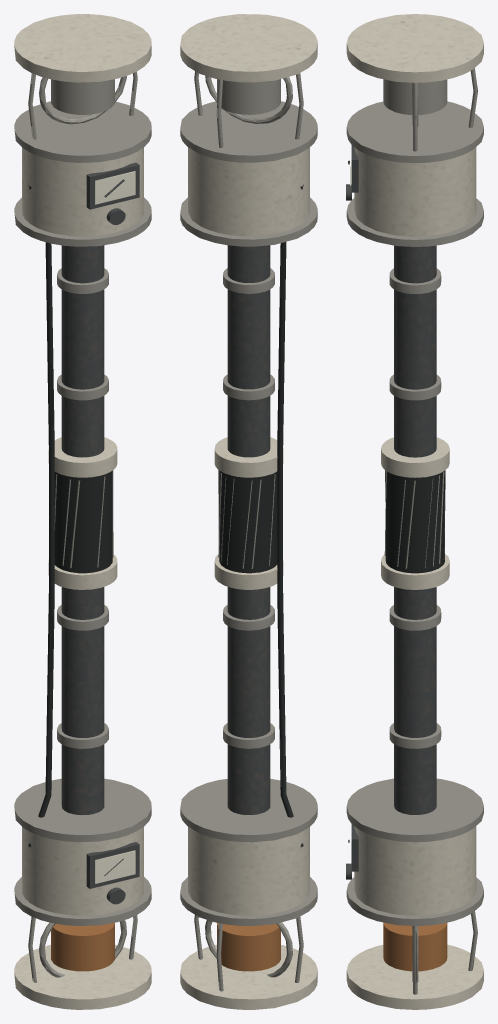
File: 03-sensor-rod.fbx
3 views of the same model, side by side, from view 1: azimuth 30°, elevation 25°; view 2: azimuth 150°, elevation 25°; view 3: azimuth 270°, elevation 25° (orthographic).
Visible parts, largest first — view 1: main shaft, end cap.001, instrument body.001, instrument body, body rim.003, end cap, body rim.001, hand grip, external cable, sensor core, sensor core.001, body rim.002 (+13 smaller); view 2: main shaft, instrument body.001, instrument body, end cap.001, body rim.003, body rim.001, end cap, hand grip, external cable, sensor core, sensor core.001, body rim.002 (+11 smaller); view 3: main shaft, instrument body.001, instrument body, end cap.001, body rim.003, end cap, body rim.001, hand grip, sensor core, body rim, body rim.002, sensor core.001 (+10 smaller).
Part boxes in pixels (<box>): main shaft: <box>61,245,104,815</box>; end cap.001: <box>14,14,151,82</box>; instrument body.001: <box>22,147,143,236</box>; instrument body: <box>22,827,143,915</box>; body rim.003: <box>14,101,151,162</box>; end cap: <box>14,945,151,1009</box>; body rim.001: <box>14,778,151,842</box>; hand grip: <box>54,470,112,573</box>; external cable: <box>28,185,54,847</box>; sensor core: <box>51,922,114,971</box>; sensor core.001: <box>51,79,114,114</box>; body rim.002: <box>14,197,151,246</box>; main shaft: <box>227,245,270,814</box>; instrument body.001: <box>188,147,309,236</box>; instrument body: <box>188,826,309,915</box>; end cap.001: <box>180,14,317,82</box>; body rim.003: <box>180,101,317,162</box>; body rim.001: <box>180,778,317,842</box>; end cap: <box>180,944,317,1009</box>; hand grip: <box>219,470,277,573</box>; external cable: <box>277,184,303,847</box>; sensor core: <box>217,922,280,971</box>; sensor core.001: <box>217,79,280,114</box>; body rim.002: <box>180,197,317,246</box>; main shaft: <box>394,245,436,814</box>; instrument body.001: <box>354,147,476,236</box>; instrument body: <box>354,826,476,915</box>; end cap.001: <box>346,14,483,82</box>; body rim.003: <box>346,101,483,163</box>; end cap: <box>346,944,483,1009</box>; body rim.001: <box>346,778,483,842</box>; hand grip: <box>385,471,444,573</box>; sensor core: <box>383,922,447,971</box>; body rim: <box>346,877,483,925</box>; body rim.002: <box>346,198,483,246</box>; sensor core.001: <box>383,79,447,114</box>.
Bounding box in the file's own units: 22 × 165 × 22.
6 materials, 6 textured.
